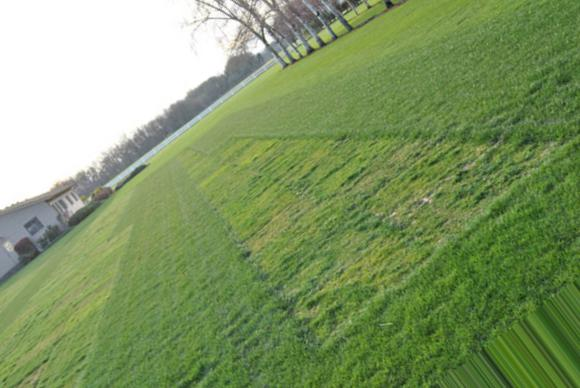patch: (254, 232, 273, 248)
